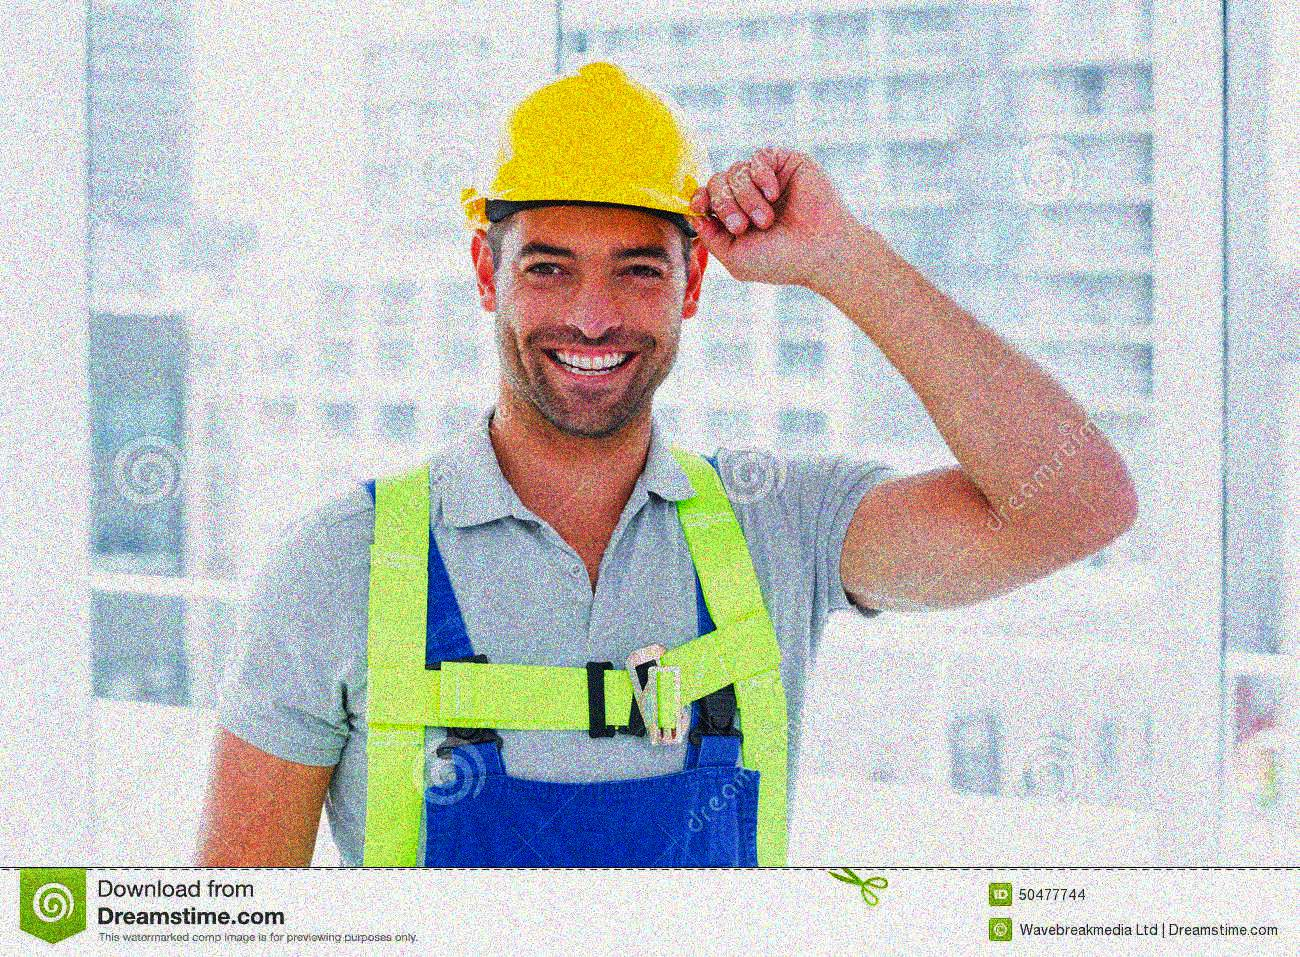helmet: (465, 55, 713, 444)
